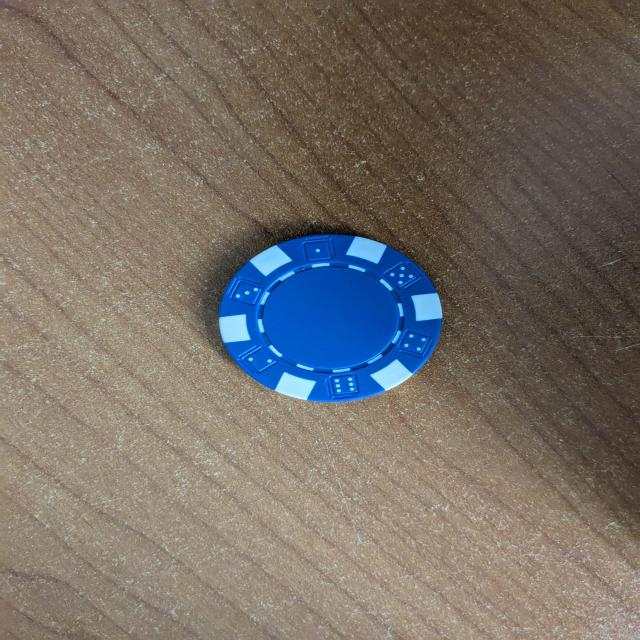blue chip: (216, 232, 444, 406)
